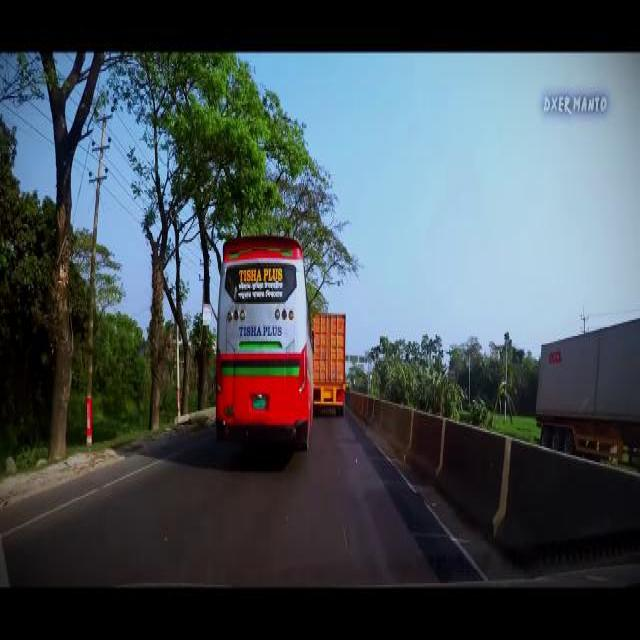bus: (212, 231, 314, 459)
truck: (532, 311, 638, 468), (309, 306, 347, 420)
